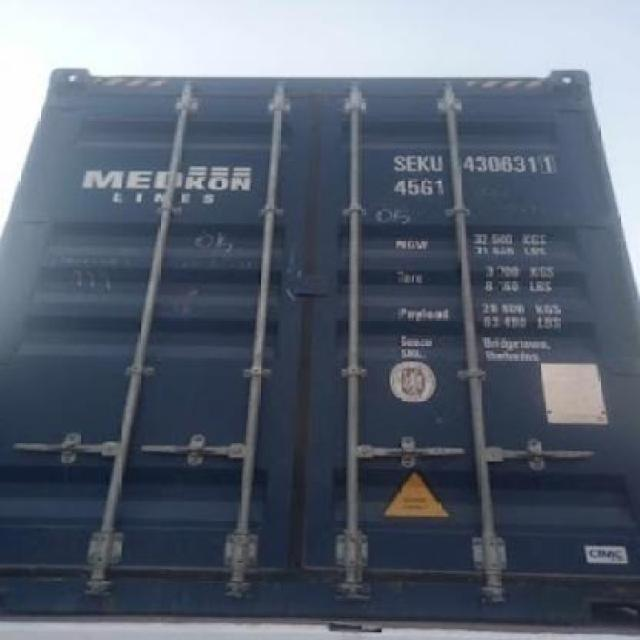ISO: (391, 177, 448, 200)
container_number: (397, 153, 560, 174)
